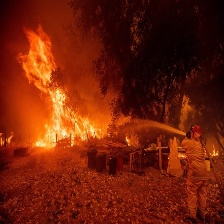fire: (16, 28, 102, 147), (176, 146, 224, 159), (1, 126, 17, 150)
